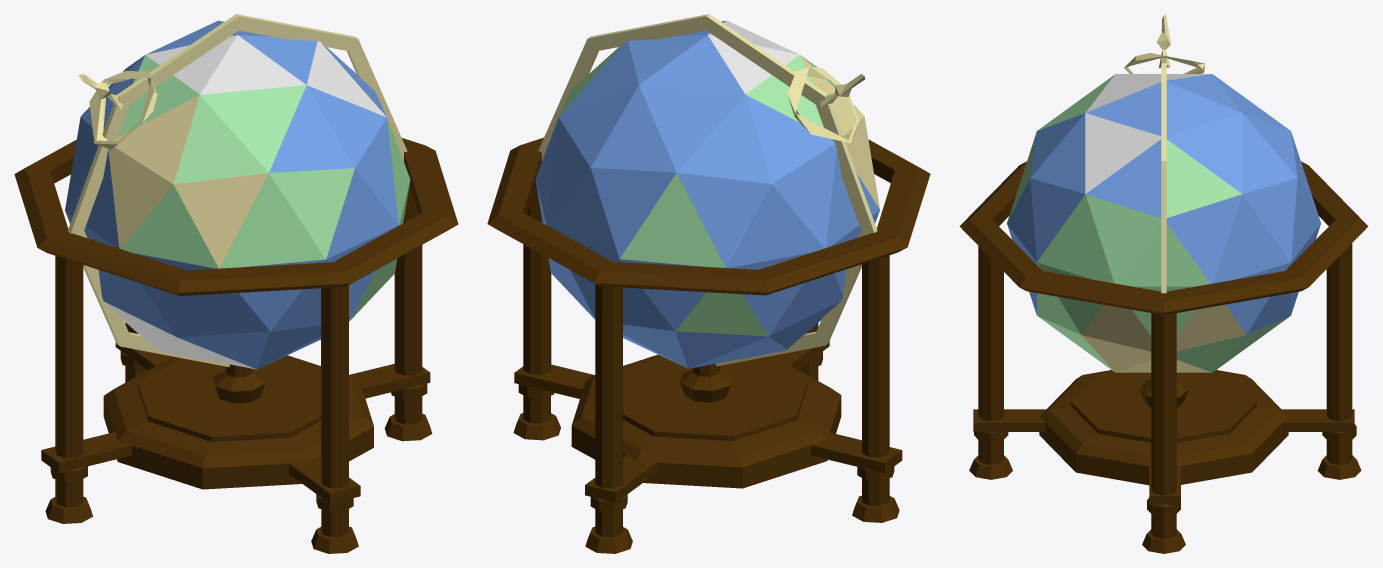
The model's file is globe_terrestre.fbx.
3 views of the same model, side by side, from view 1: azimuth 30°, elevation 25°; view 2: azimuth 150°, elevation 25°; view 3: azimuth 270°, elevation 25° (orthographic). The views are drawn at different scales.
Visible parts, largest first — view 1: Cylinder.029; view 2: Cylinder.029; view 3: Cylinder.029.
Part boxes in pixels (x1,y1,x2,y2): Cylinder.029: [14, 14, 458, 553]; Cylinder.029: [487, 14, 930, 553]; Cylinder.029: [959, 14, 1368, 553].
Size of the model in its own units: 137 by 150 by 137.
